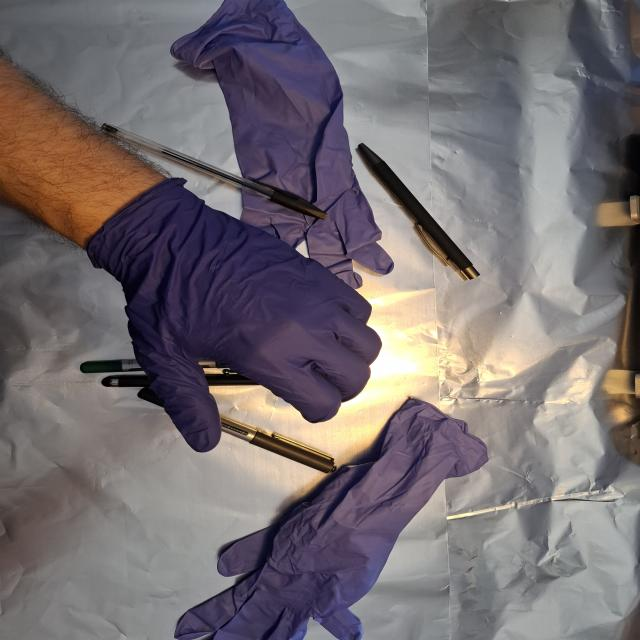glove_on: (84, 177, 387, 455)
